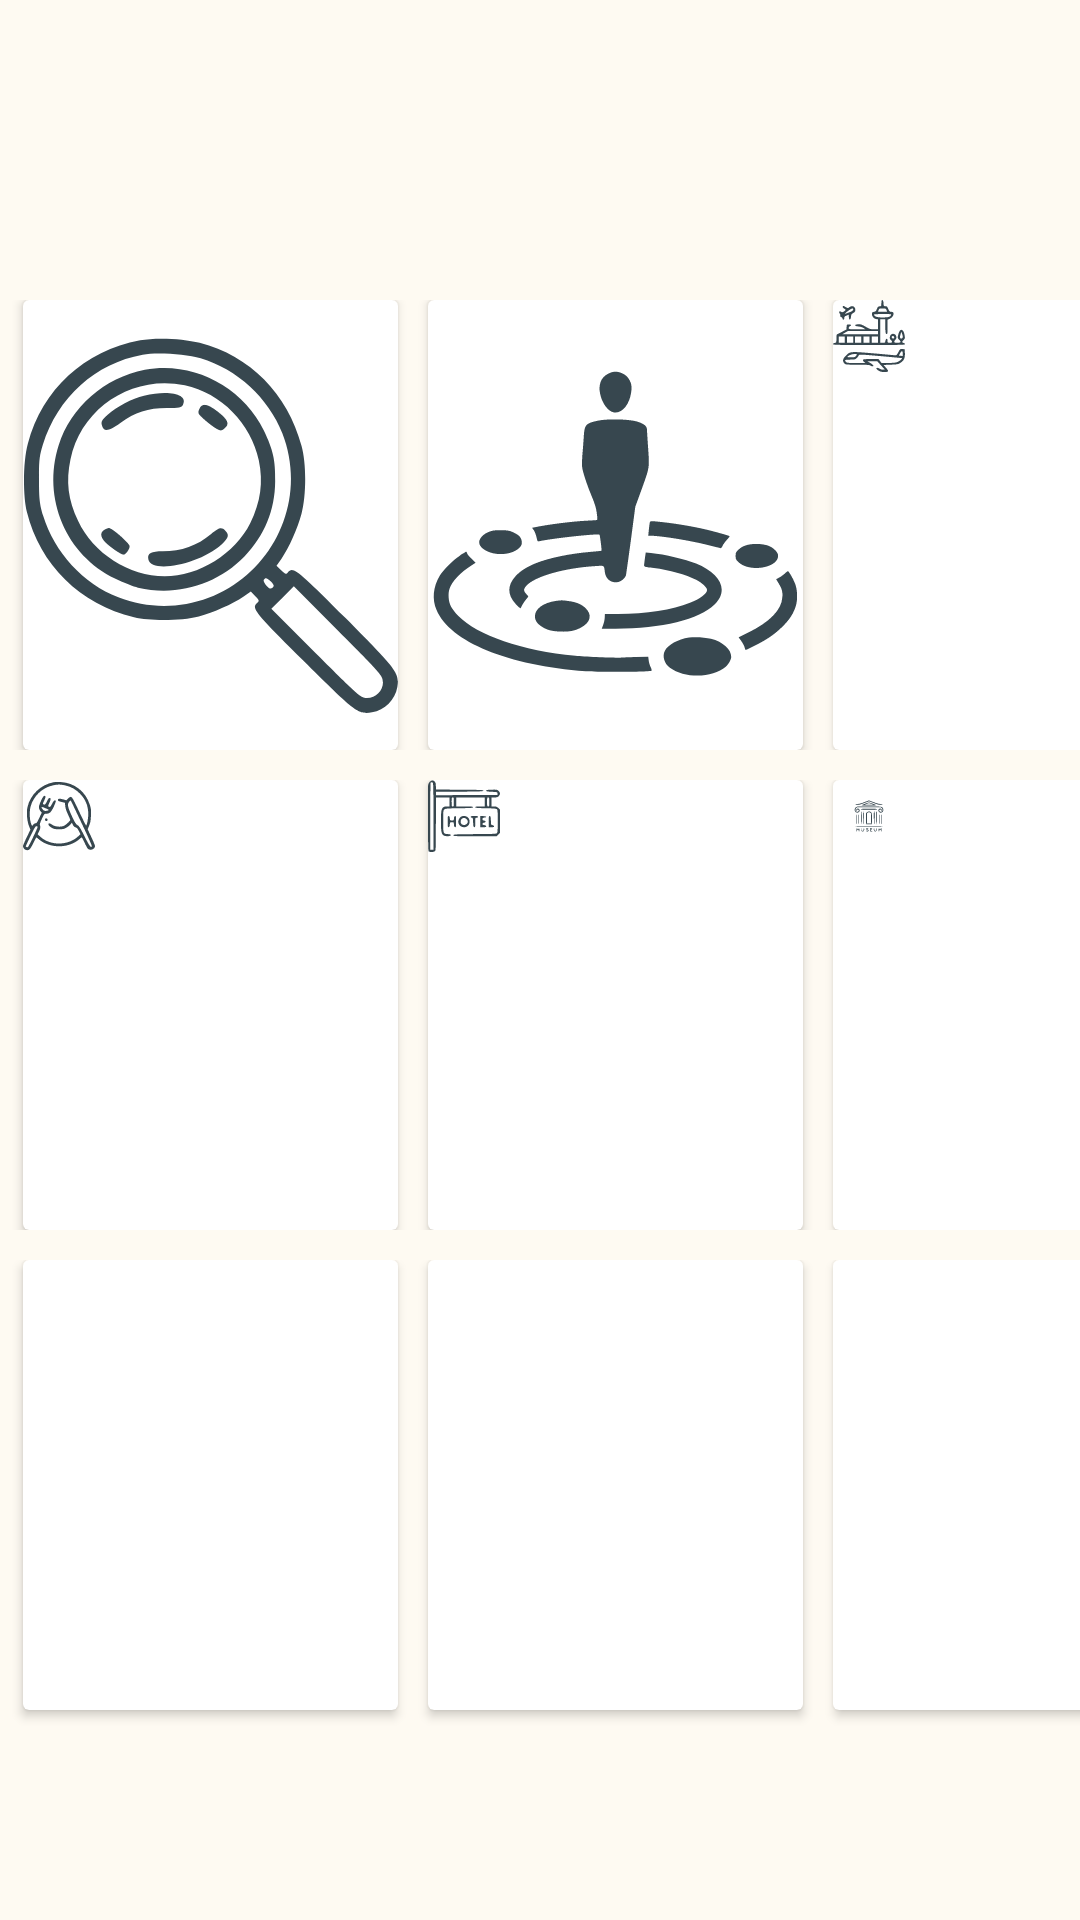

Where icons sit on this 1080 × 1920 app screen, as (x1, y1, x2, y2):
airport: (833, 300, 905, 372)
restaurants: (23, 780, 95, 851)
